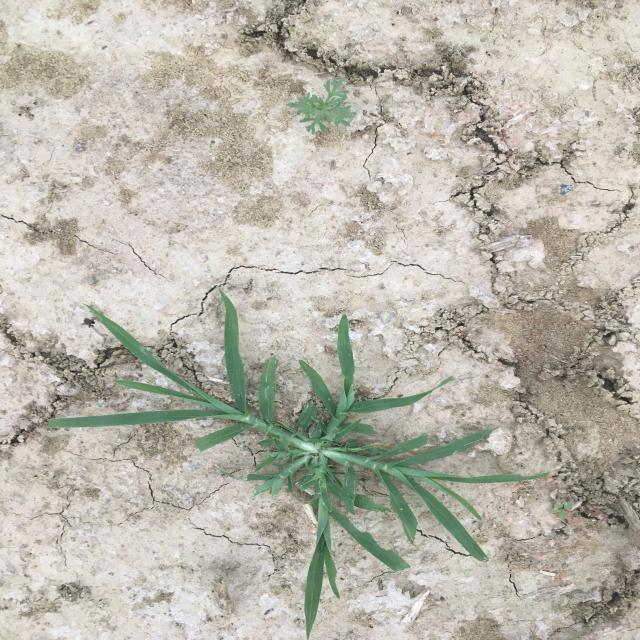Goosegrass: (42, 286, 552, 639)
Ragweed: (284, 74, 359, 137)
